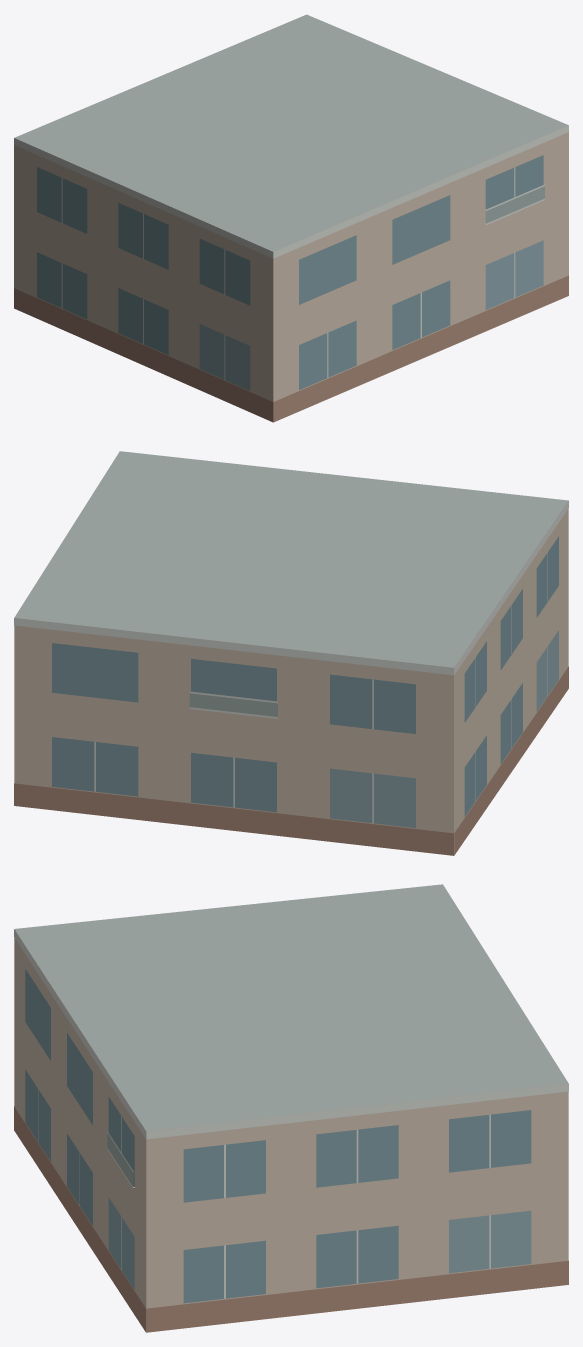
File: survey-upis-32623673.glb
3 renders of one model, top to bottom at view 1: azimuth 30°, elevation 25°; view 2: azimuth 150°, elevation 25°; view 3: azimuth 270°, elevation 25°, orthographic. The views are drawn at different scales.
Visible parts, largest first — view 1: survey-upis-32623673.tmp; view 2: survey-upis-32623673.tmp; view 3: survey-upis-32623673.tmp.
Part boxes in pixels (box(x1,y1,x2,y2)): survey-upis-32623673.tmp: box(14, 14, 568, 422); survey-upis-32623673.tmp: box(14, 451, 568, 855); survey-upis-32623673.tmp: box(14, 884, 568, 1332).
Bounding box in the file's own units: 16.07 × 6.1 × 15.24.
